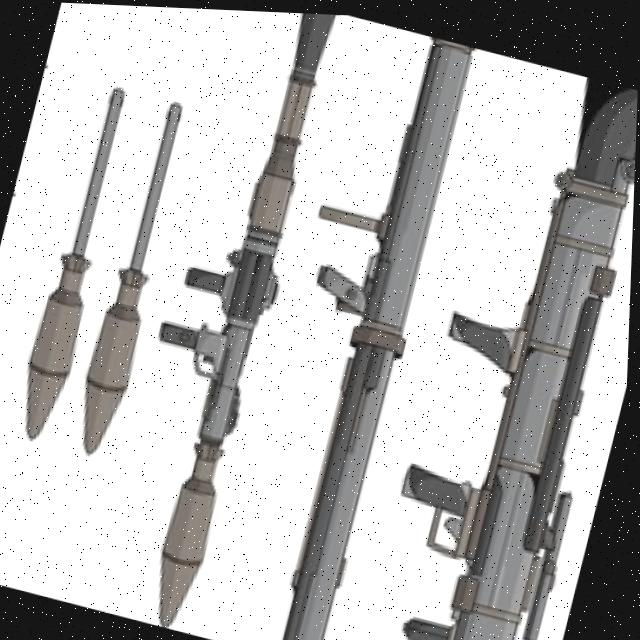grenade: (67, 86, 203, 463), (7, 75, 142, 454), (149, 438, 236, 631)
rocket: (212, 10, 487, 640), (357, 46, 639, 640), (135, 5, 355, 452)
